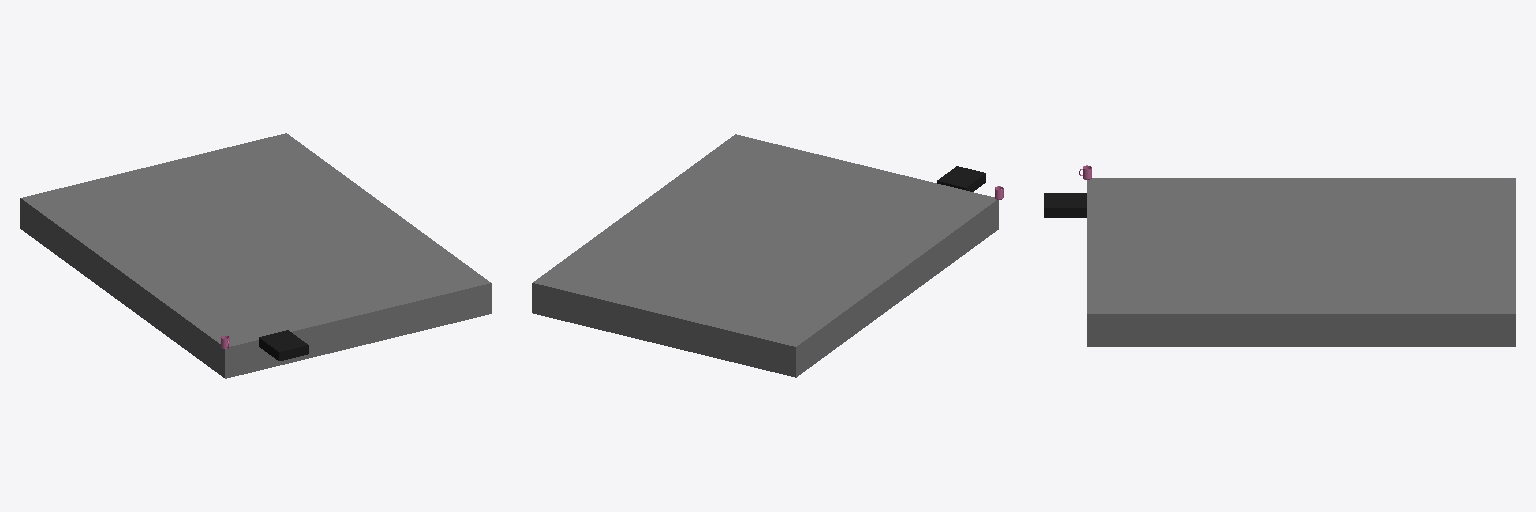
URDF robot description (panda):
<?xml version="1.0" ?>
<!-- =================================================================================== -->
<!-- |    This document was autogenerated by xacro from table_mug_panda_arm_hand_fingers_fixed.urdf.xacro | -->
<!-- |    EDITING THIS FILE BY HAND IS NOT RECOMMENDED                                 | -->
<!-- =================================================================================== -->
<robot name="panda" xmlns:xacro="http://www.ros.org/wiki/xacro">
  <link name="table">
    <visual>
      <origin rpy="0 0 0" xyz="1.3716 1.8288 -0.1524"/>
      <geometry>
        <box size="2.7432 3.6576 0.3048"/>
      </geometry>
      <material name="grey">
        <color rgba="0.5 0.5 0.5 1.0"/>
      </material>
    </visual>
    <visual>
      <origin rpy="0 0 0" xyz="0.4953 -0.18288 -0.02032"/>
      <geometry>
        <box size="0.3048 0.36576 0.09144"/>
      </geometry>
      <material name="black">
        <color rgba="0.15 0.15 0.15 1.0"/>
      </material>
    </visual>
  </link>
  <joint name="panda_joint_table" type="fixed">
    <parent link="table"/>
    <child link="panda_link0"/>
    <origin rpy="0 0 1.57079632679" xyz="0.4953 -0.10795 0.0"/>
  </joint>
  <link name="panda_link0">
    <visual>
      <geometry>
        <mesh filename="package://franka_description/meshes/visual/link0.dae"/>
      </geometry>
    </visual>
    <collision>
      <geometry>
        <mesh filename="package://franka_description/meshes/collision/link0.stl"/>
      </geometry>
    </collision>
  </link>
  <link name="panda_link1">
    <visual>
      <geometry>
        <mesh filename="package://franka_description/meshes/visual/link1.dae"/>
      </geometry>
    </visual>
    <collision>
      <geometry>
        <mesh filename="package://franka_description/meshes/collision/link1.stl"/>
      </geometry>
    </collision>
  </link>
  <joint name="panda_joint1" type="revolute">
    <safety_controller k_position="100.0" k_velocity="40.0" soft_lower_limit="-2.8973" soft_upper_limit="2.8973"/>
    <origin rpy="0 0 0" xyz="0 0 0.333"/>
    <parent link="panda_link0"/>
    <child link="panda_link1"/>
    <axis xyz="0 0 1"/>
    <limit effort="87" lower="-2.8973" upper="2.8973" velocity="2.1750"/>
  </joint>
  <link name="panda_link2">
    <visual>
      <geometry>
        <mesh filename="package://franka_description/meshes/visual/link2.dae"/>
      </geometry>
    </visual>
    <collision>
      <geometry>
        <mesh filename="package://franka_description/meshes/collision/link2.stl"/>
      </geometry>
    </collision>
  </link>
  <joint name="panda_joint2" type="revolute">
    <safety_controller k_position="100.0" k_velocity="40.0" soft_lower_limit="-1.7628" soft_upper_limit="1.7628"/>
    <origin rpy="-1.57079632679 0 0" xyz="0 0 0"/>
    <parent link="panda_link1"/>
    <child link="panda_link2"/>
    <axis xyz="0 0 1"/>
    <limit effort="87" lower="-1.7628" upper="1.7628" velocity="2.1750"/>
  </joint>
  <link name="panda_link3">
    <visual>
      <geometry>
        <mesh filename="package://franka_description/meshes/visual/link3.dae"/>
      </geometry>
    </visual>
    <collision>
      <geometry>
        <mesh filename="package://franka_description/meshes/collision/link3.stl"/>
      </geometry>
    </collision>
  </link>
  <joint name="panda_joint3" type="revolute">
    <safety_controller k_position="100.0" k_velocity="40.0" soft_lower_limit="-2.8973" soft_upper_limit="2.8973"/>
    <origin rpy="1.57079632679 0 0" xyz="0 -0.316 0"/>
    <parent link="panda_link2"/>
    <child link="panda_link3"/>
    <axis xyz="0 0 1"/>
    <limit effort="87" lower="-2.8973" upper="2.8973" velocity="2.1750"/>
  </joint>
  <link name="panda_link4">
    <visual>
      <geometry>
        <mesh filename="package://franka_description/meshes/visual/link4.dae"/>
      </geometry>
    </visual>
    <collision>
      <geometry>
        <mesh filename="package://franka_description/meshes/collision/link4.stl"/>
      </geometry>
    </collision>
  </link>
  <joint name="panda_joint4" type="revolute">
    <safety_controller k_position="100.0" k_velocity="40.0" soft_lower_limit="-3.0718" soft_upper_limit="-0.0698"/>
    <origin rpy="1.57079632679 0 0" xyz="0.0825 0 0"/>
    <parent link="panda_link3"/>
    <child link="panda_link4"/>
    <axis xyz="0 0 1"/>
    <limit effort="87" lower="-3.0718" upper="-0.0698" velocity="2.1750"/>
  </joint>
  <link name="panda_link5">
    <visual>
      <geometry>
        <mesh filename="package://franka_description/meshes/visual/link5.dae"/>
      </geometry>
    </visual>
    <collision>
      <geometry>
        <mesh filename="package://franka_description/meshes/collision/link5.stl"/>
      </geometry>
    </collision>
  </link>
  <joint name="panda_joint5" type="revolute">
    <safety_controller k_position="100.0" k_velocity="40.0" soft_lower_limit="-2.8973" soft_upper_limit="2.8973"/>
    <origin rpy="-1.57079632679 0 0" xyz="-0.0825 0.384 0"/>
    <parent link="panda_link4"/>
    <child link="panda_link5"/>
    <axis xyz="0 0 1"/>
    <limit effort="12" lower="-2.8973" upper="2.8973" velocity="2.6100"/>
  </joint>
  <link name="panda_link6">
    <visual>
      <geometry>
        <mesh filename="package://franka_description/meshes/visual/link6.dae"/>
      </geometry>
    </visual>
    <collision>
      <geometry>
        <mesh filename="package://franka_description/meshes/collision/link6.stl"/>
      </geometry>
    </collision>
  </link>
  <joint name="panda_joint6" type="revolute">
    <safety_controller k_position="100.0" k_velocity="40.0" soft_lower_limit="-0.0175" soft_upper_limit="3.7525"/>
    <origin rpy="1.57079632679 0 0" xyz="0 0 0"/>
    <parent link="panda_link5"/>
    <child link="panda_link6"/>
    <axis xyz="0 0 1"/>
    <limit effort="12" lower="-0.0175" upper="3.7525" velocity="2.6100"/>
  </joint>
  <link name="panda_link7">
    <visual>
      <geometry>
        <mesh filename="package://franka_description/meshes/visual/link7.dae"/>
      </geometry>
    </visual>
    <collision>
      <geometry>
        <mesh filename="package://franka_description/meshes/collision/link7.stl"/>
      </geometry>
    </collision>
  </link>
  <joint name="panda_joint7" type="revolute">
    <safety_controller k_position="100.0" k_velocity="40.0" soft_lower_limit="-2.8973" soft_upper_limit="2.8973"/>
    <origin rpy="1.57079632679 0 0" xyz="0.088 0 0"/>
    <parent link="panda_link6"/>
    <child link="panda_link7"/>
    <axis xyz="0 0 1"/>
    <limit effort="12" lower="-2.8973" upper="2.8973" velocity="2.6100"/>
  </joint>
  <link name="panda_link8"/>
  <joint name="panda_joint8" type="fixed">
    <origin rpy="0 0 0" xyz="0 0 0.107"/>
    <parent link="panda_link7"/>
    <child link="panda_link8"/>
    <axis xyz="0 0 0"/>
  </joint>
  <joint name="panda_hand_joint" type="fixed">
    <parent link="panda_link8"/>
    <child link="panda_hand"/>
    <origin rpy="0 0 -0.785398163397" xyz="0 0 0"/>
  </joint>
  <link name="panda_hand">
    <visual>
      <geometry>
        <mesh filename="package://franka_description/meshes/visual/hand.dae"/>
      </geometry>
    </visual>
    <collision>
      <geometry>
        <mesh filename="package://franka_description/meshes/collision/hand.stl"/>
      </geometry>
    </collision>
  </link>
  <link name="panda_leftfinger">
    <visual>
      <geometry>
        <mesh filename="package://franka_description/meshes/visual/finger.dae"/>
      </geometry>
    </visual>
    <collision>
      <geometry>
        <mesh filename="package://franka_description/meshes/collision/finger.stl"/>
      </geometry>
    </collision>
  </link>
  <link name="panda_rightfinger">
    <visual>
      <origin rpy="0 0 3.14159265359" xyz="0 0 0"/>
      <geometry>
        <mesh filename="package://franka_description/meshes/visual/finger.dae"/>
      </geometry>
    </visual>
    <collision>
      <origin rpy="0 0 3.14159265359" xyz="0 0 0"/>
      <geometry>
        <mesh filename="package://franka_description/meshes/collision/finger.stl"/>
      </geometry>
    </collision>
  </link>
  <link name="panda_hand_center"/>
  <joint name="panda_finger_joint1" type="fixed">
    <parent link="panda_hand"/>
    <child link="panda_leftfinger"/>
    <origin rpy="0 0 0" xyz="0 0.02 0.0584"/>
  </joint>
  <joint name="panda_finger_joint2" type="fixed">
    <parent link="panda_hand"/>
    <child link="panda_rightfinger"/>
    <origin rpy="0 0 0" xyz="0 -0.02 0.0584"/>
    <mimic joint="panda_finger_joint1"/>
  </joint>
  <joint name="panda_hand_center_joint" type="fixed">
    <parent link="panda_hand"/>
    <child link="panda_hand_center"/>
    <origin rpy="0 0 0" xyz="0 0 0.08"/>
  </joint>
  <joint name="mug_joint" type="floating">
    <parent link="table"/>
    <child link="mug"/>
    <origin rpy="0 0 0" xyz="0 0 0"/>
  </joint>
  <link name="mug">
    <visual>
      <geometry>
        <!-- <mesh filename="package://franka_pbds_controllers/meshes/mug.dae"/> -->
        <mesh filename="package://franka_description/meshes/mug.dae"/>
      </geometry>
    </visual>
  </link>
  <link name="mug_rim_center"/>
  <joint name="mug_rim_center_joint" type="fixed">
    <parent link="mug"/>
    <child link="mug_rim_center"/>
    <origin rpy="0 0 0" xyz="0 0 0.105"/>
  </joint>
</robot>

--- Facts derived from the render (not from the file) ---
Views: 3 orthographic renders of the robot side by side, from view 1: azimuth 30°, elevation 25°; view 2: azimuth 150°, elevation 25°; view 3: azimuth 270°, elevation 25°.
Model panda with 16 links and 15 joints (7 revolute, 7 fixed, 1 floating), rooted at table, posed joints at zero except 1 at the middle of their limits (panda_joint4 = -1.57).
Visible links, largest first — view 1: table; view 2: table; view 3: table.
Link boxes in pixels (x1,y1,x2,y2): table: (20, 133, 491, 378); table: (532, 134, 998, 377); table: (1044, 178, 1515, 346).
Size in the robot's own frame: 2.78 by 4.02 by 0.4098 metres.
1 mesh visuals loaded from 11 distinct referenced files (1 Collada DAE); not drawn: 11 (reference not matched to a file when rendering).